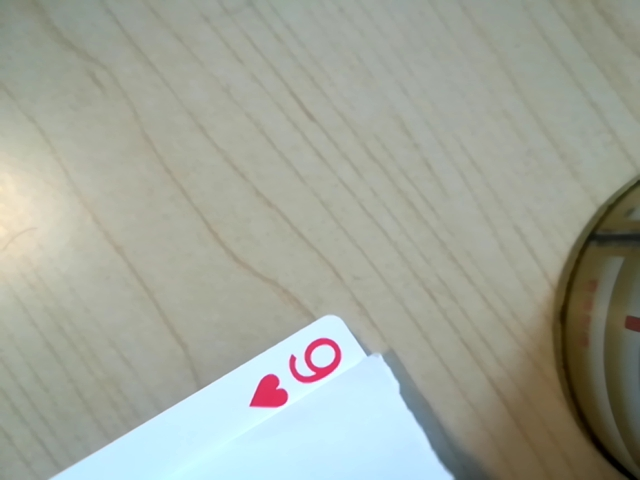hx 9: (246, 335, 354, 411)
